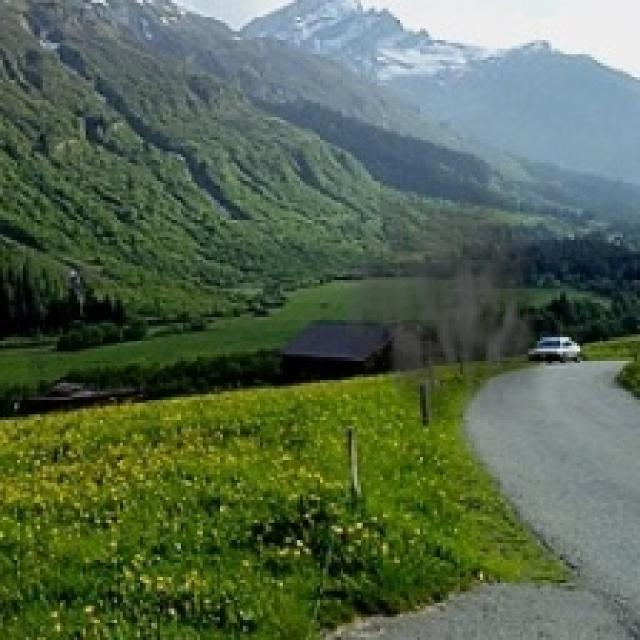smoke: (346, 157, 551, 420)
